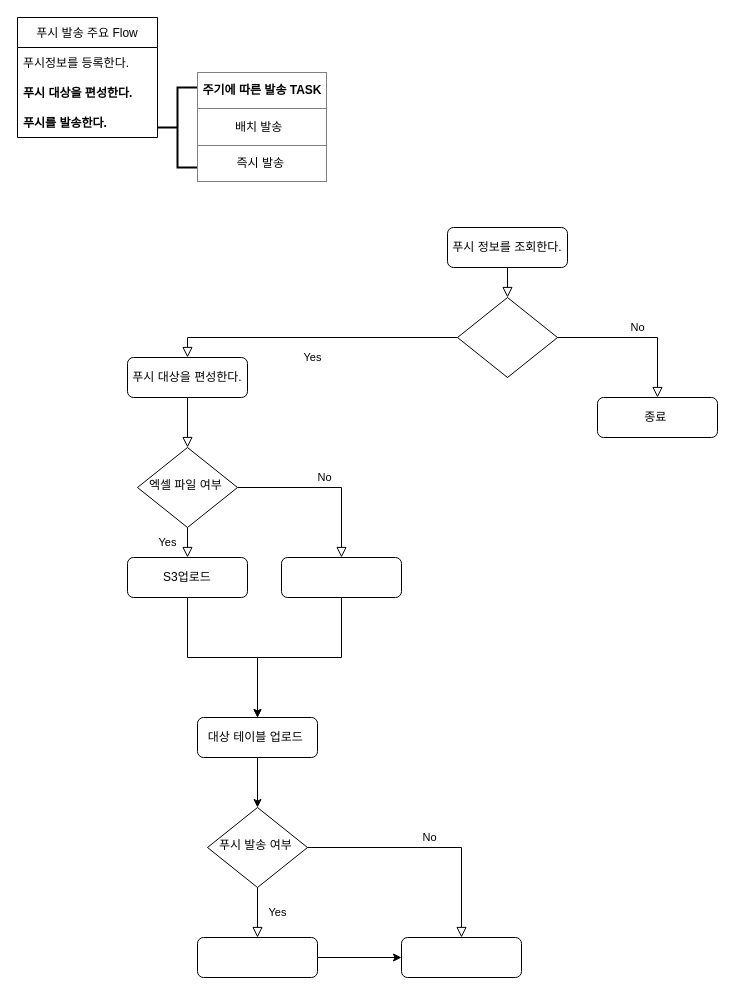
The diagram is 735 pixels wide and 995 high, and some of its shapes have lost their labels. The box of each missing label's shape, as (x1, y1, x2, y2) in pixels:
USER 테이블 조회: (280, 556, 402, 598)
발송 대상 여부: (456, 296, 558, 378)
상태값 업데이트: (400, 936, 522, 978)
푸시 발송: (196, 936, 318, 978)
